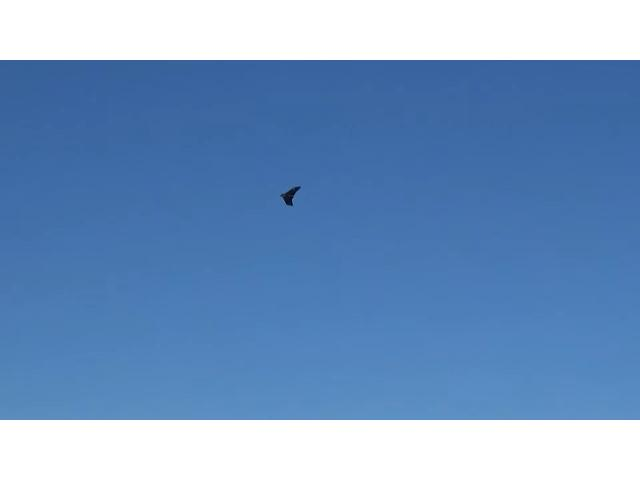Anti-Drone: (272, 181, 306, 209)
